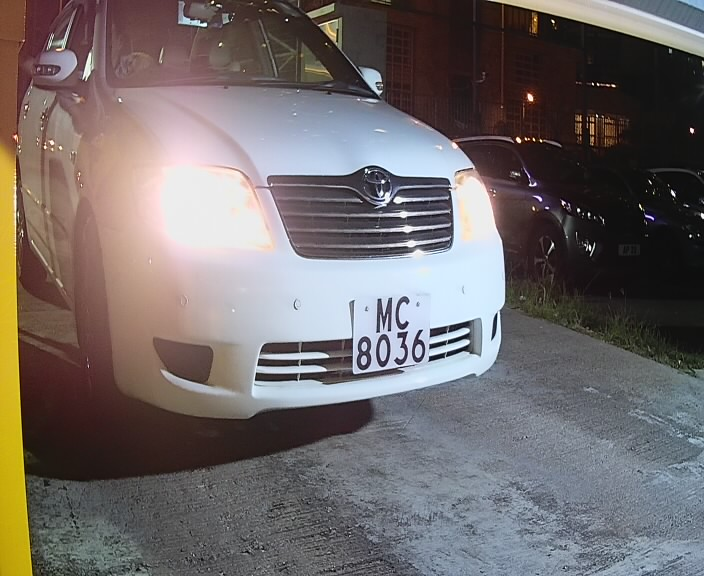License Plate: (343, 287, 447, 385)
